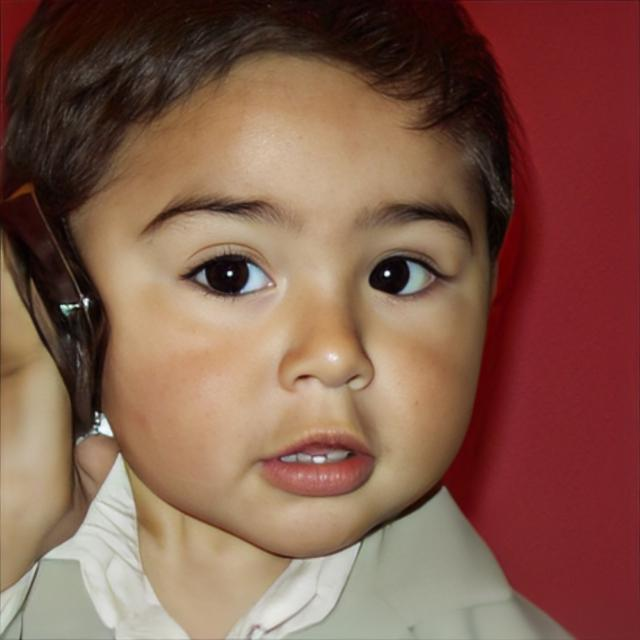surprise: (65, 42, 492, 562)
